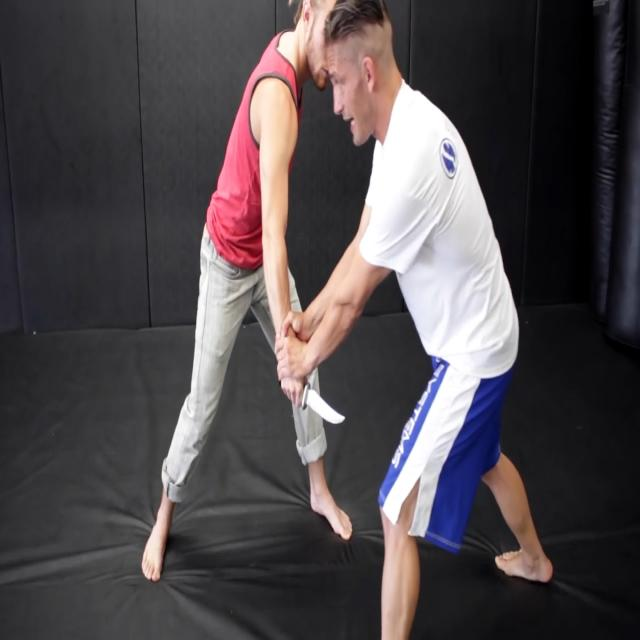knife: (302, 381, 354, 435)
